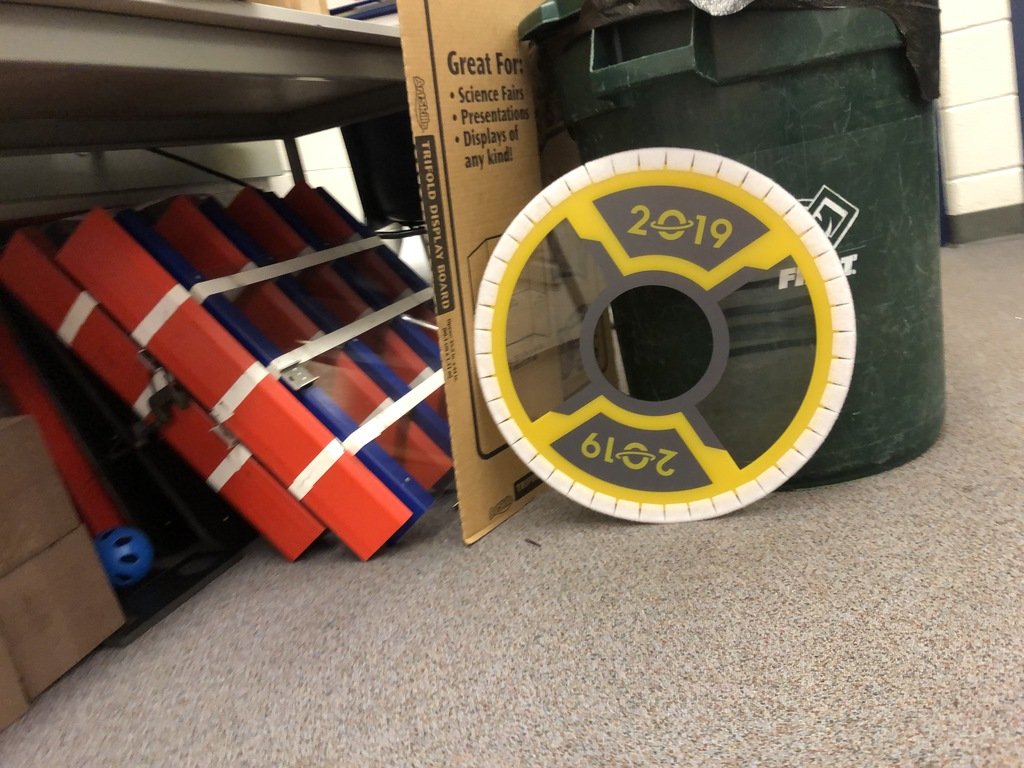hatch_panel: (475, 136, 867, 546)
